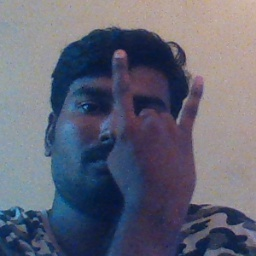V: (102, 46, 210, 207)
